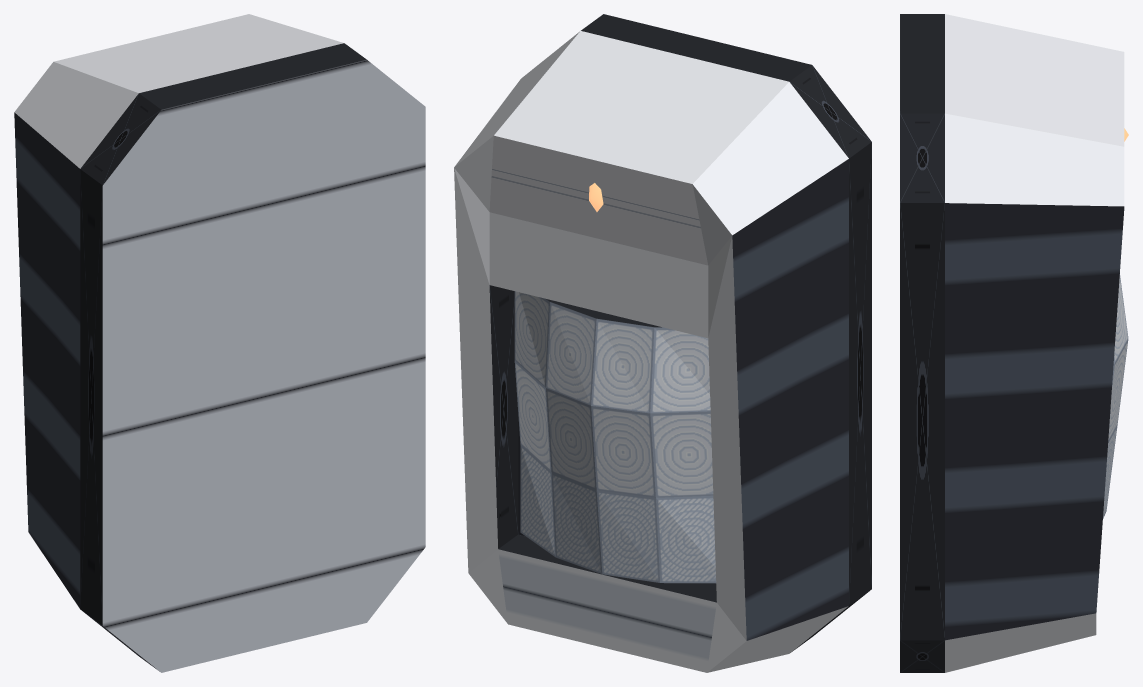
File: SEC_Sensor_PIR_Motion.fbx
The picture shows the model from 3 angles, left to right: view 1: azimuth 30°, elevation 25°; view 2: azimuth 150°, elevation 25°; view 3: azimuth 270°, elevation 25°; orthographic projection. The views are drawn at different scales.
Visible parts, largest first — view 1: SEC_Sensor_PIR_Motion, Sensor_Housing; view 2: Sensor_Housing, Fresnel_Lens, SEC_Sensor_PIR_Motion; view 3: Sensor_Housing, SEC_Sensor_PIR_Motion, Fresnel_Lens.
Boxes of the visible parts, x1,y1,x2,y2 form: SEC_Sensor_PIR_Motion: (80, 43, 425, 672); Sensor_Housing: (14, 14, 343, 608); Sensor_Housing: (454, 31, 848, 672); Fresnel_Lens: (514, 291, 716, 583); SEC_Sensor_PIR_Motion: (581, 14, 871, 651); Sensor_Housing: (945, 14, 1124, 672); SEC_Sensor_PIR_Motion: (900, 14, 944, 672); Fresnel_Lens: (1103, 274, 1128, 518).
Size of the model in its own units: 6.6 by 11 by 4.08.
